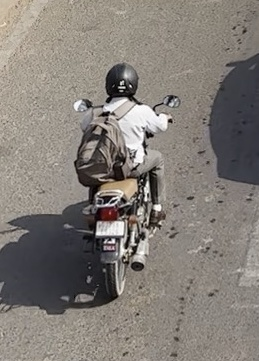BikeWithRider: (65, 57, 184, 303)
Helmet: (100, 57, 143, 103)
